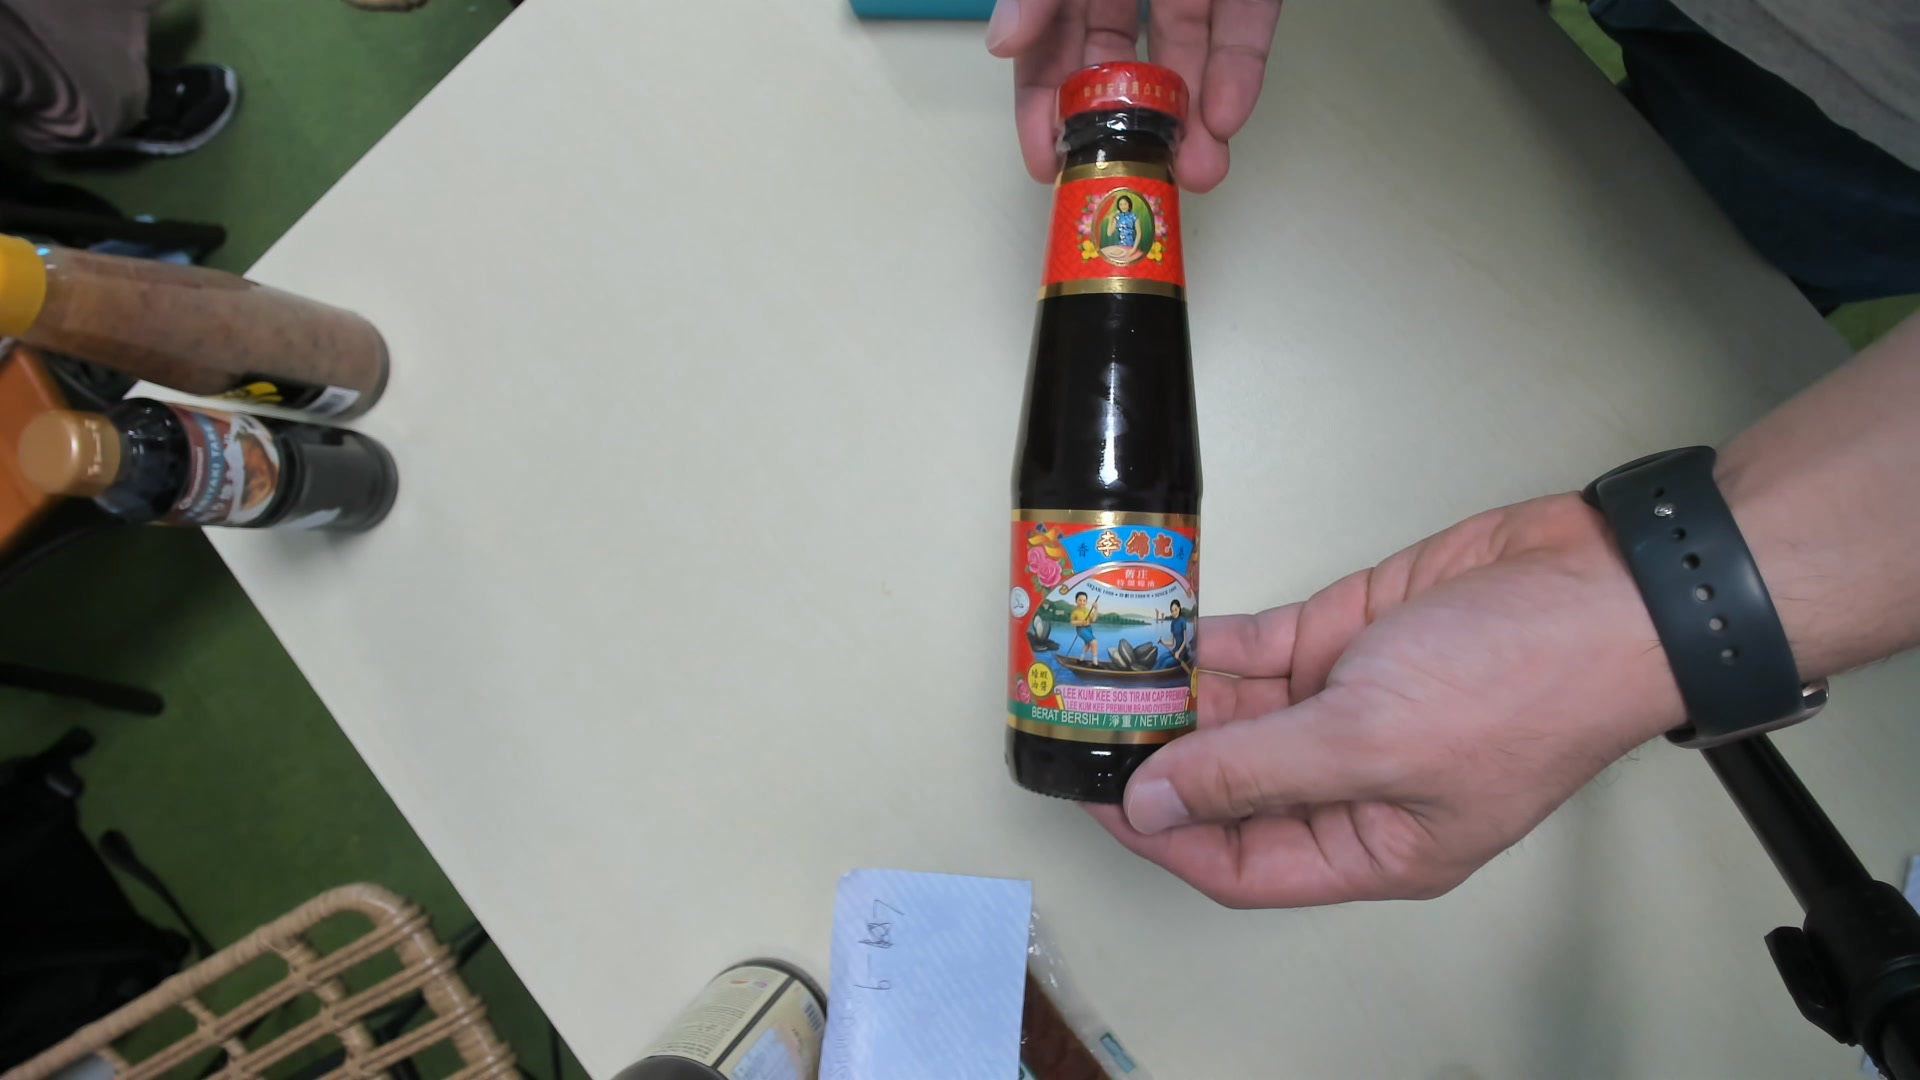OtherSauceDressingSoupbasePaste_200-299g_Halal_NonHealthy: (1005, 63, 1209, 815)
